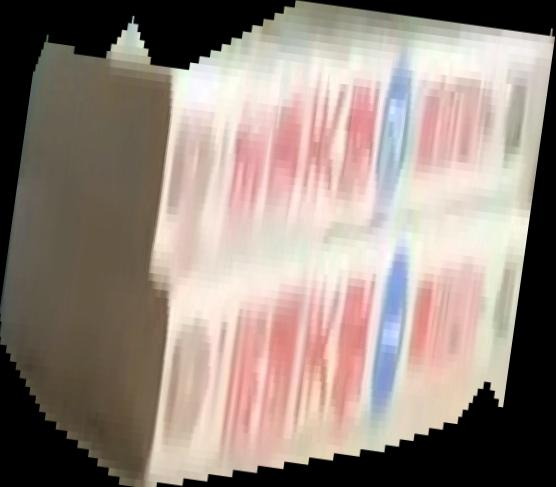flat: (1, 1, 556, 487)
